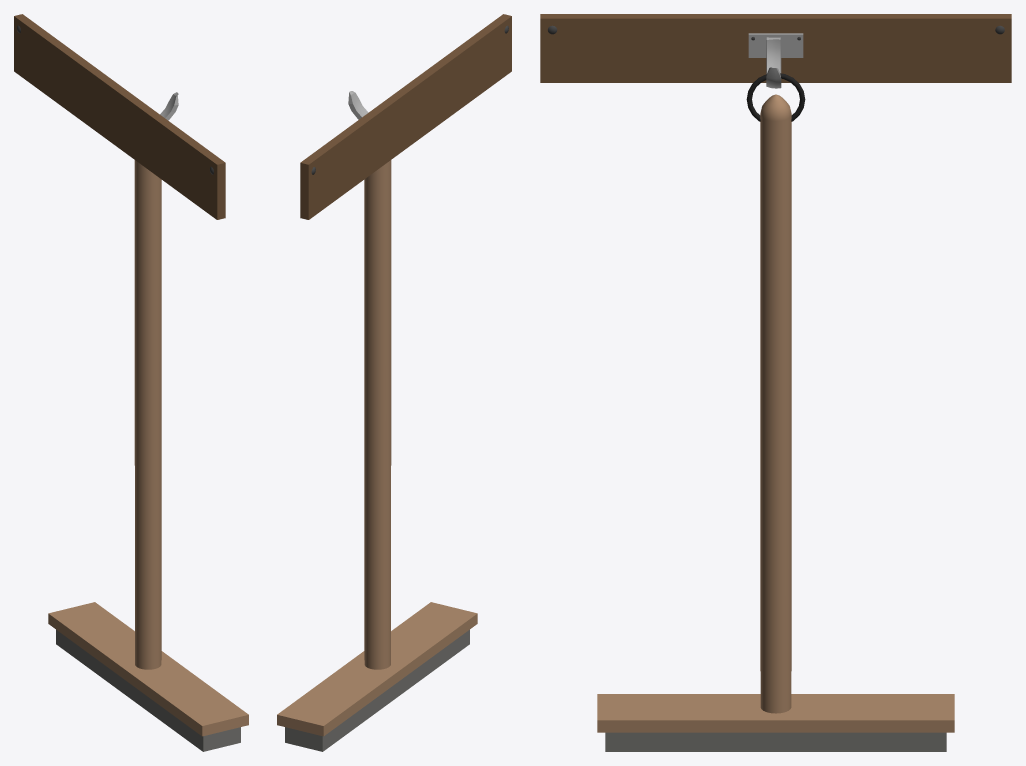
Rendered from SM_broom.fbx.
The picture shows the model from 3 angles, left to right: view 1: azimuth 30°, elevation 25°; view 2: azimuth 150°, elevation 25°; view 3: azimuth 270°, elevation 25°; orthographic projection. The views are drawn at different scales.
Parts seen in each view (by area): view 1: pTorus2; view 2: pTorus2; view 3: pTorus2.
Part boxes in pixels (x1,y1,x2,y2): pTorus2: [14, 14, 248, 751]; pTorus2: [277, 14, 511, 751]; pTorus2: [540, 14, 1011, 751].
Bounding box in the file's own units: 1.38 × 12.84 × 7.74.
